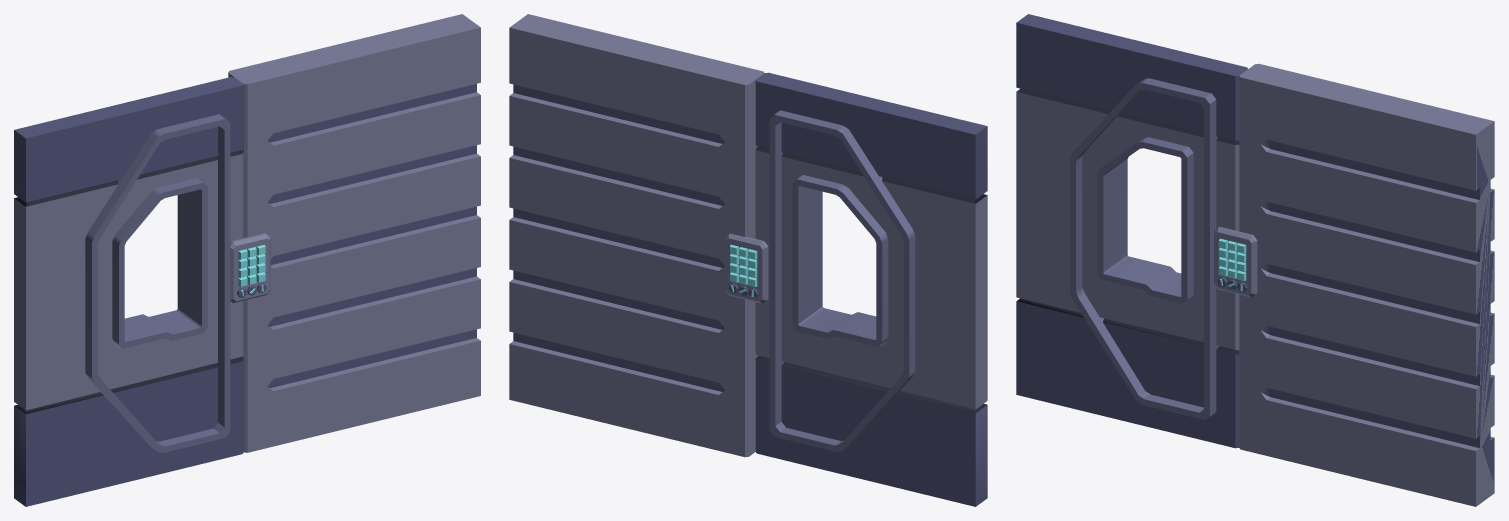
Rendered from Door.fbx.
The picture shows the model from 3 angles, left to right: view 1: azimuth 30°, elevation 25°; view 2: azimuth 150°, elevation 25°; view 3: azimuth 330°, elevation 25°; orthographic projection.
Visible parts, largest first — view 1: doorr, doorl; view 2: doorr, doorl; view 3: doorr, doorl.
Boxes of the visible parts, x1,y1,x2,y2 form: doorr: [228, 14, 480, 452]; doorl: [14, 77, 270, 506]; doorr: [509, 14, 768, 457]; doorl: [755, 72, 987, 506]; doorr: [1239, 63, 1494, 506]; doorl: [1016, 14, 1257, 448].
Size of the model in its own units: 1.58 by 1.22 by 0.1798.
